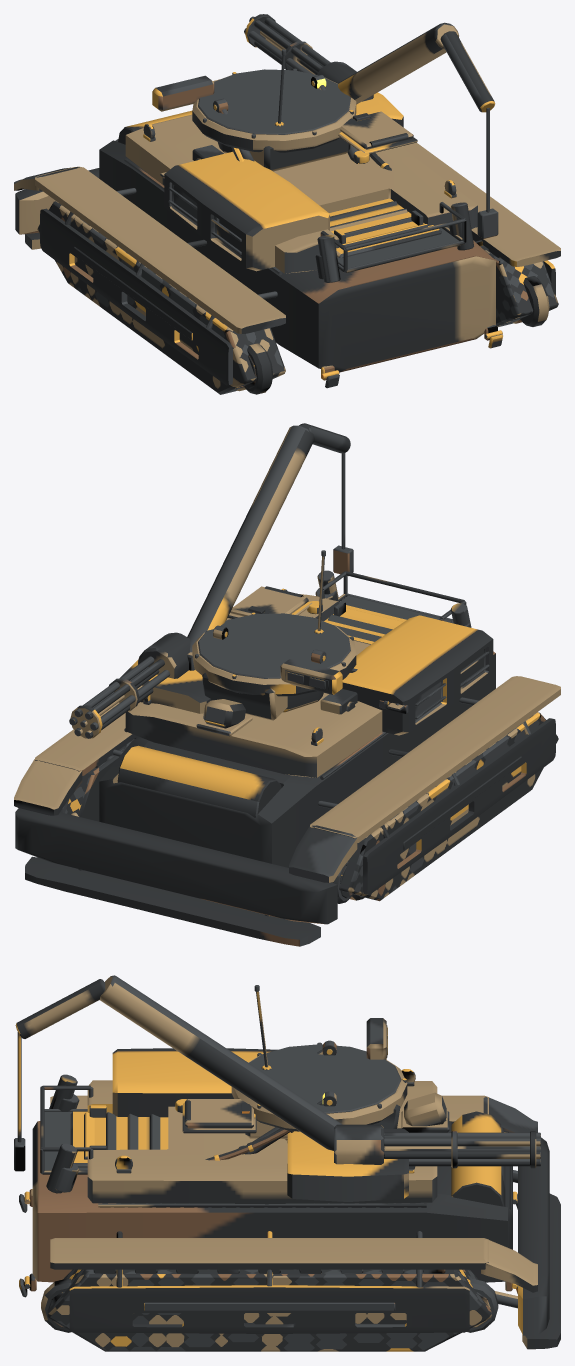
File: SalvageHauler_Atlas.fbx
3 renders of one model, top to bottom at view 1: azimuth 30°, elevation 25°; view 2: azimuth 150°, elevation 25°; view 3: azimuth 270°, elevation 25°, orthographic. The views are drawn at different scales.
Visible parts, largest first — view 1: SalvageHauler_UnifiedMesh; view 2: SalvageHauler_UnifiedMesh; view 3: SalvageHauler_UnifiedMesh.
Boxes of the visible parts, x1,y1,x2,y2 form: SalvageHauler_UnifiedMesh: (14, 14, 560, 394); SalvageHauler_UnifiedMesh: (14, 423, 560, 946); SalvageHauler_UnifiedMesh: (14, 975, 560, 1351).
Size of the model in its own units: 283 by 260 by 383.
1 material, 1 textured.
